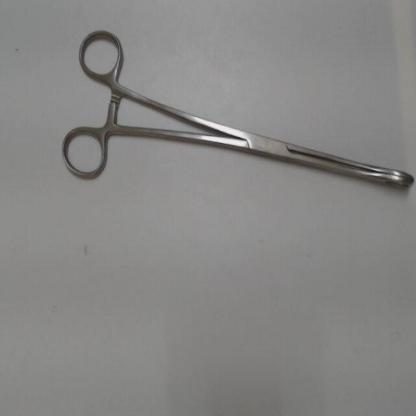Sponge Forceps: (57, 25, 416, 199)
